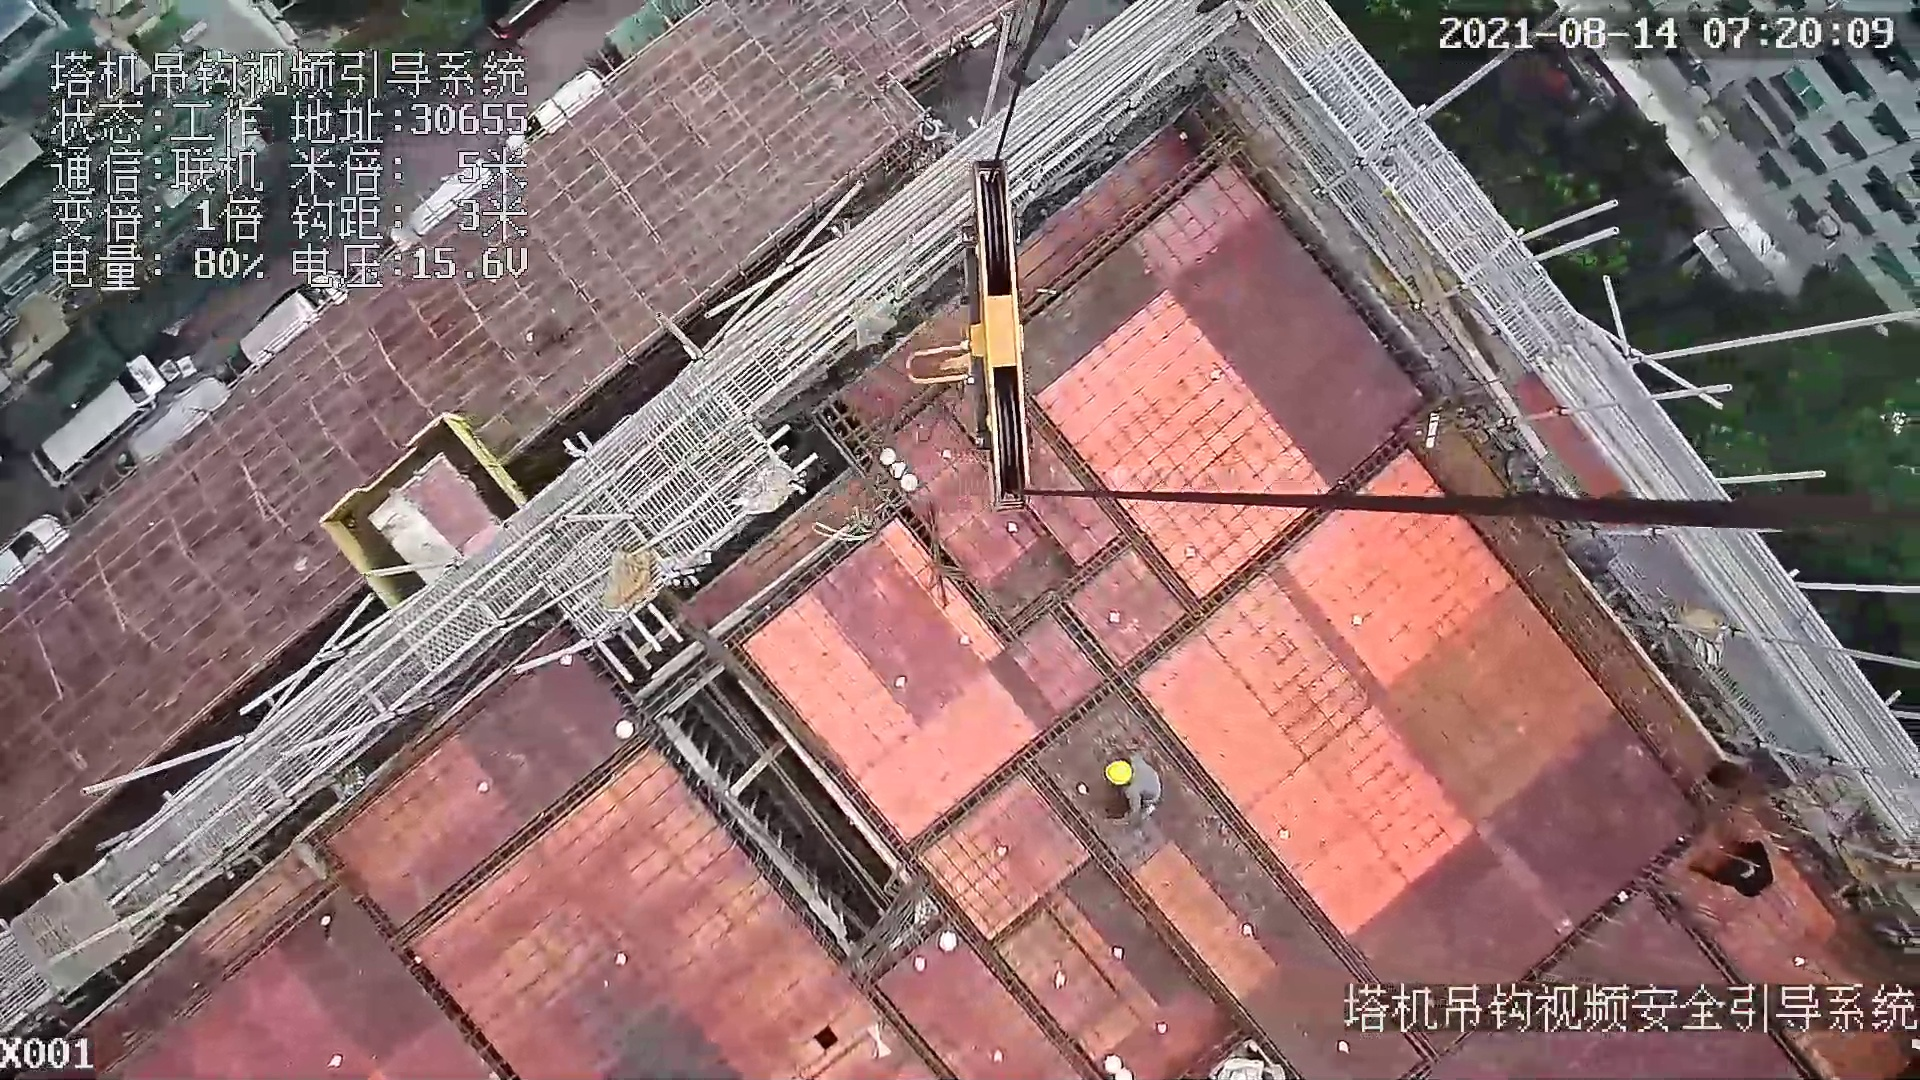helmet: (1102, 757, 1133, 789)
hook: (897, 163, 1046, 512)
person: (1091, 741, 1178, 832), (1708, 840, 1776, 892)
